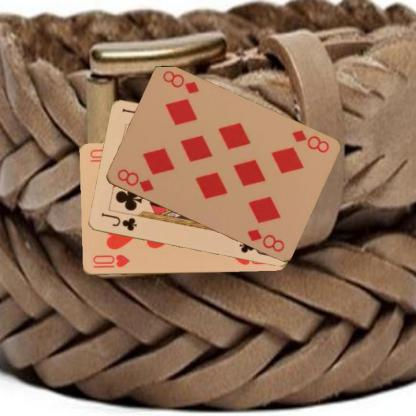10h: (90, 252, 131, 269)
8d: (114, 166, 155, 194), (289, 127, 330, 154)
Jc: (98, 210, 138, 233)
